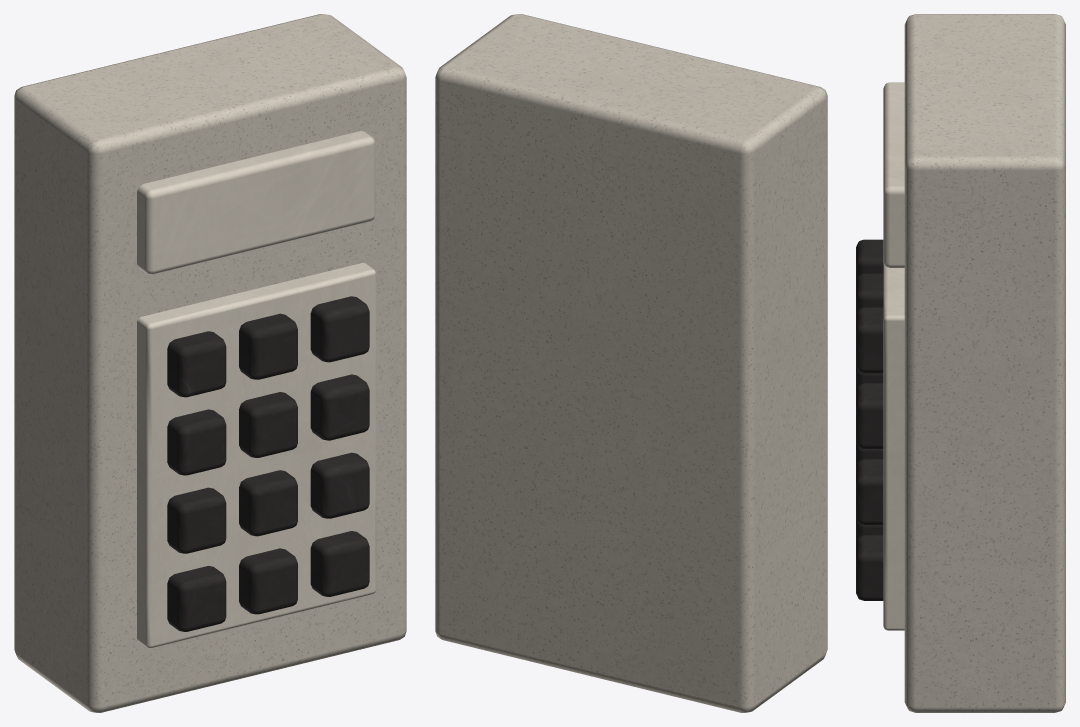
File: Keypad.fbx
3 views of the same model, side by side, from view 1: azimuth 30°, elevation 25°; view 2: azimuth 150°, elevation 25°; view 3: azimuth 270°, elevation 25° (orthographic). The views are drawn at different scales.
Visible parts, largest first — view 1: Keypad Base, Button Base, Code Display, Keypad Button.002, Keypad Button.004, Keypad Button.001, Keypad Button.007, Keypad Button.006, Keypad Button.009, Keypad Button.010, Keypad Button.012, Keypad Button.011 (+3 smaller); view 2: Keypad Base; view 3: Keypad Base, Button Base, Code Display, Keypad Button.002, Keypad Button.006, Keypad Button.009, Keypad Button.012, Keypad Button.003, Keypad Button.001.
Boxes of the visible parts, x1=… form: Keypad Base: x1=14, y1=14, x2=406, y2=712; Button Base: x1=137, y1=263, x2=376, y2=648; Code Display: x1=137, y1=131, x2=375, y2=274; Keypad Button.002: x1=310, y1=296, x2=369, y2=362; Keypad Button.004: x1=167, y1=409, x2=226, y2=475; Keypad Button.001: x1=167, y1=331, x2=226, y2=397; Keypad Button.007: x1=167, y1=487, x2=226, y2=553; Keypad Button.006: x1=310, y1=374, x2=369, y2=440; Keypad Button.009: x1=310, y1=452, x2=369, y2=518; Keypad Button.010: x1=167, y1=566, x2=226, y2=631; Keypad Button.012: x1=310, y1=531, x2=369, y2=596; Keypad Button.011: x1=239, y1=548, x2=297, y2=614; Keypad Base: x1=435, y1=14, x2=827, y2=712; Keypad Base: x1=904, y1=14, x2=1065, y2=712; Button Base: x1=883, y1=262, x2=904, y2=630; Code Display: x1=883, y1=82, x2=904, y2=267; Keypad Button.002: x1=856, y1=307, x2=883, y2=373; Keypad Button.006: x1=856, y1=383, x2=883, y2=448; Keypad Button.009: x1=856, y1=459, x2=883, y2=524; Keypad Button.012: x1=856, y1=535, x2=883, y2=600; Keypad Button.003: x1=856, y1=273, x2=883, y2=314; Keypad Button.001: x1=856, y1=239, x2=883, y2=280.
Size of the model in its own units: 1.22 by 0.7187 by 2.1.
